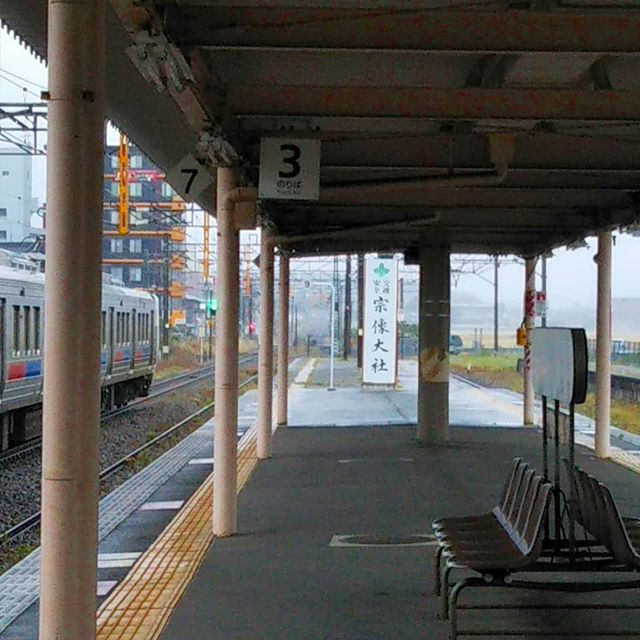bench: (437, 458, 617, 623)
sign: (356, 247, 399, 390), (256, 135, 327, 200), (167, 152, 221, 204)
train: (1, 256, 164, 429)
train track: (1, 338, 280, 563)
